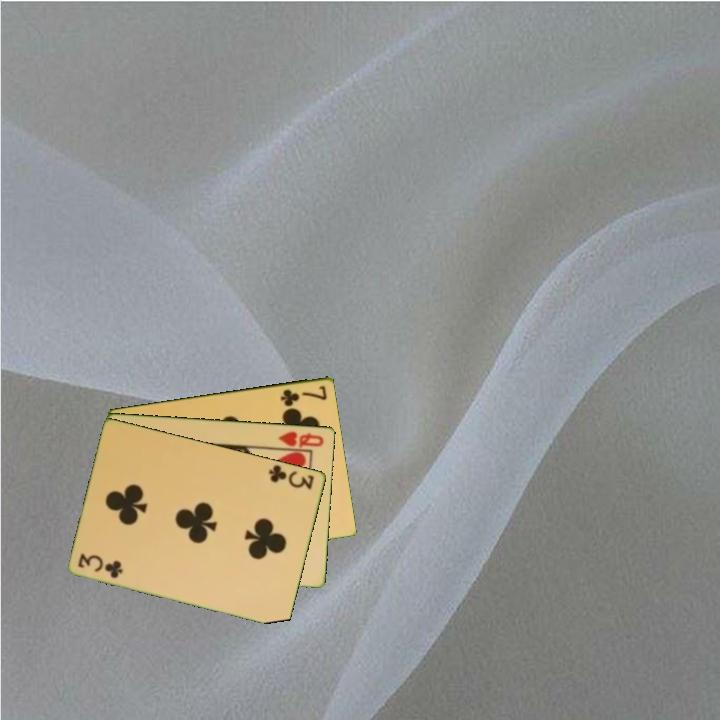3c: (266, 461, 317, 492), (75, 550, 126, 581)
7c: (277, 382, 330, 409)
Qh: (275, 428, 327, 450)
